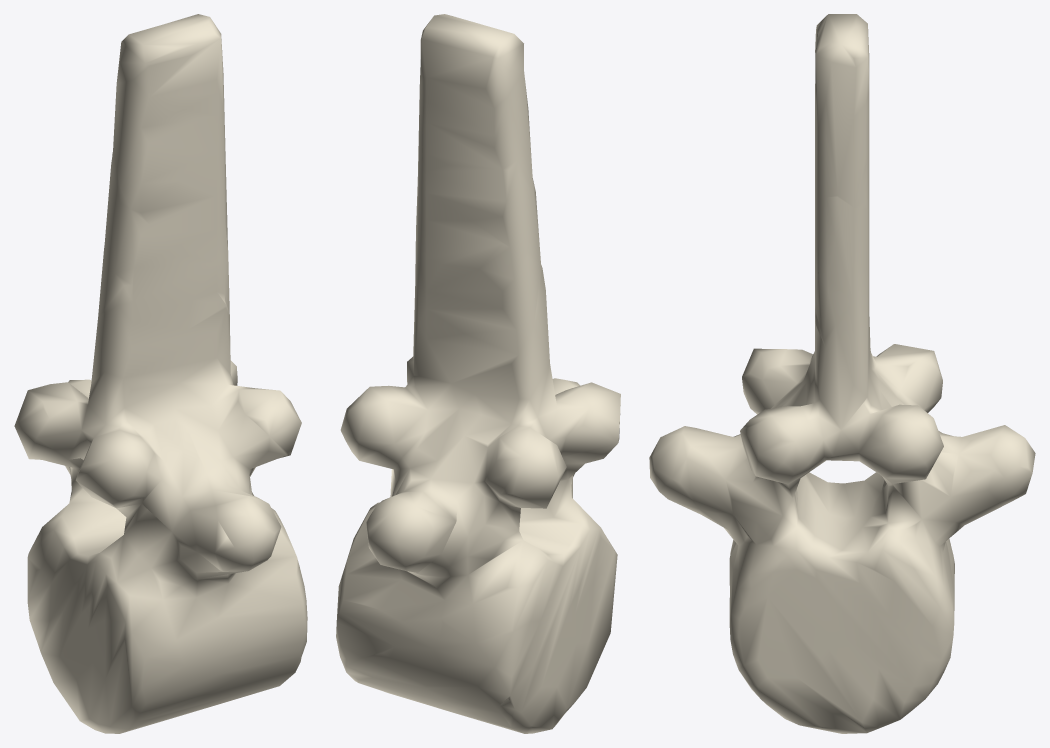
The model's file is thoracic_11.glb.
3 views of the same model, side by side, from view 1: azimuth 30°, elevation 25°; view 2: azimuth 150°, elevation 25°; view 3: azimuth 270°, elevation 25° (orthographic).
Parts seen in each view (by area): view 1: geometry_0; view 2: geometry_0; view 3: geometry_0.
Part boxes in pixels (x1,y1,x2,y2): geometry_0: [14, 14, 307, 733]; geometry_0: [336, 14, 620, 733]; geometry_0: [649, 14, 1035, 733].
Size of the model in its own units: 0.1272 by 0.3853 by 0.1992.
